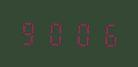nine: (18, 19, 42, 46)
six: (93, 20, 117, 47)
zero: (68, 19, 92, 47), (43, 19, 67, 46)
